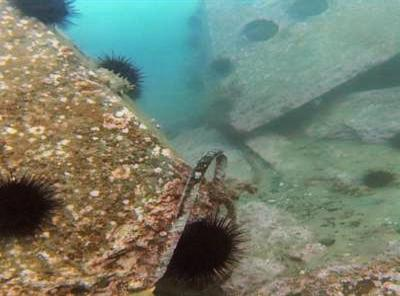urchin: (174, 208, 244, 284), (0, 172, 57, 240), (96, 48, 146, 90), (10, 0, 78, 27), (362, 166, 396, 190)
